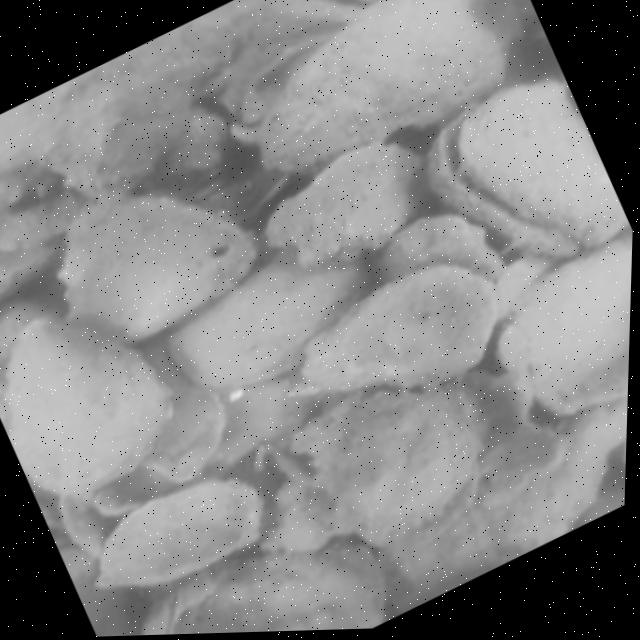Oyster-Closed: (423, 78, 630, 261), (153, 256, 366, 397)
Oyster-Indeterminate: (378, 391, 628, 616), (38, 0, 265, 195), (258, 0, 503, 171), (0, 318, 177, 500), (62, 194, 260, 339), (302, 261, 503, 390), (496, 244, 632, 417), (323, 394, 474, 545), (85, 470, 269, 593), (379, 211, 511, 284), (143, 393, 233, 483), (0, 244, 58, 307)
